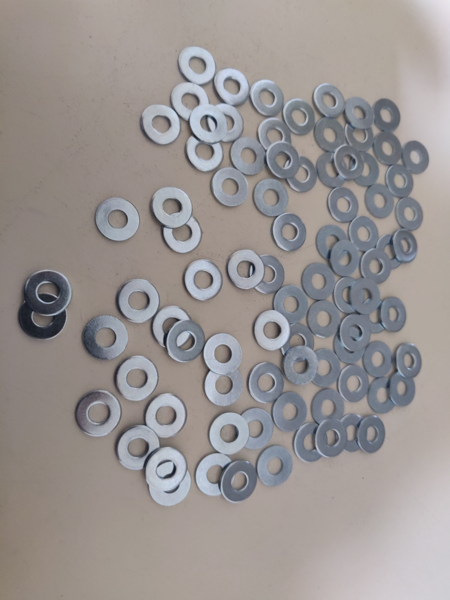circle: (74, 389, 122, 438), (25, 269, 72, 317), (19, 295, 67, 340), (115, 355, 160, 402), (209, 406, 251, 456), (83, 315, 128, 361), (94, 197, 140, 242), (145, 391, 189, 437), (117, 426, 161, 471), (143, 447, 187, 492), (117, 279, 161, 323), (149, 461, 191, 507), (196, 452, 237, 498), (246, 360, 287, 406), (220, 458, 259, 505), (202, 365, 244, 408), (153, 305, 194, 348), (202, 332, 243, 375), (152, 188, 193, 230), (309, 387, 349, 430), (256, 444, 294, 489), (272, 389, 309, 435), (163, 212, 203, 253), (183, 259, 223, 300), (142, 105, 182, 146), (252, 310, 292, 351), (171, 82, 210, 123), (166, 321, 204, 363), (207, 98, 244, 141), (177, 46, 217, 85), (190, 103, 228, 144), (238, 408, 276, 449), (313, 417, 348, 461), (228, 248, 264, 290), (230, 135, 266, 177), (283, 345, 319, 387), (274, 284, 310, 326), (306, 297, 342, 339), (250, 253, 286, 295), (212, 67, 250, 106), (212, 168, 249, 208), (300, 261, 337, 301), (264, 141, 301, 180), (295, 422, 329, 464), (187, 134, 224, 172), (252, 179, 288, 217), (282, 323, 316, 363), (337, 363, 370, 404), (273, 213, 307, 252), (316, 152, 350, 191), (367, 376, 399, 417), (314, 117, 350, 153), (284, 155, 318, 193), (360, 248, 393, 287), (357, 415, 388, 456), (311, 348, 342, 389), (249, 80, 284, 116), (388, 371, 420, 410), (375, 233, 407, 272), (339, 413, 369, 454), (312, 83, 347, 118), (259, 118, 292, 155), (350, 278, 383, 315), (331, 279, 364, 316), (384, 165, 417, 201), (349, 216, 381, 253), (285, 98, 316, 136), (363, 341, 394, 379), (340, 315, 371, 353), (318, 223, 349, 261), (370, 98, 404, 132), (334, 144, 365, 181), (334, 327, 365, 364), (331, 240, 361, 278), (344, 95, 375, 131), (329, 187, 359, 224), (353, 149, 381, 188), (345, 118, 376, 153), (365, 184, 396, 219), (401, 139, 431, 175), (395, 343, 424, 380), (359, 300, 387, 337), (381, 297, 409, 333), (375, 132, 403, 167), (397, 196, 424, 232), (393, 227, 418, 264)
